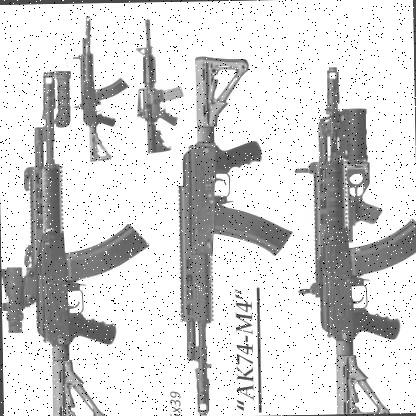rifle: (167, 48, 308, 416), (0, 64, 140, 416), (307, 62, 416, 414), (67, 14, 138, 166), (128, 15, 196, 158)
